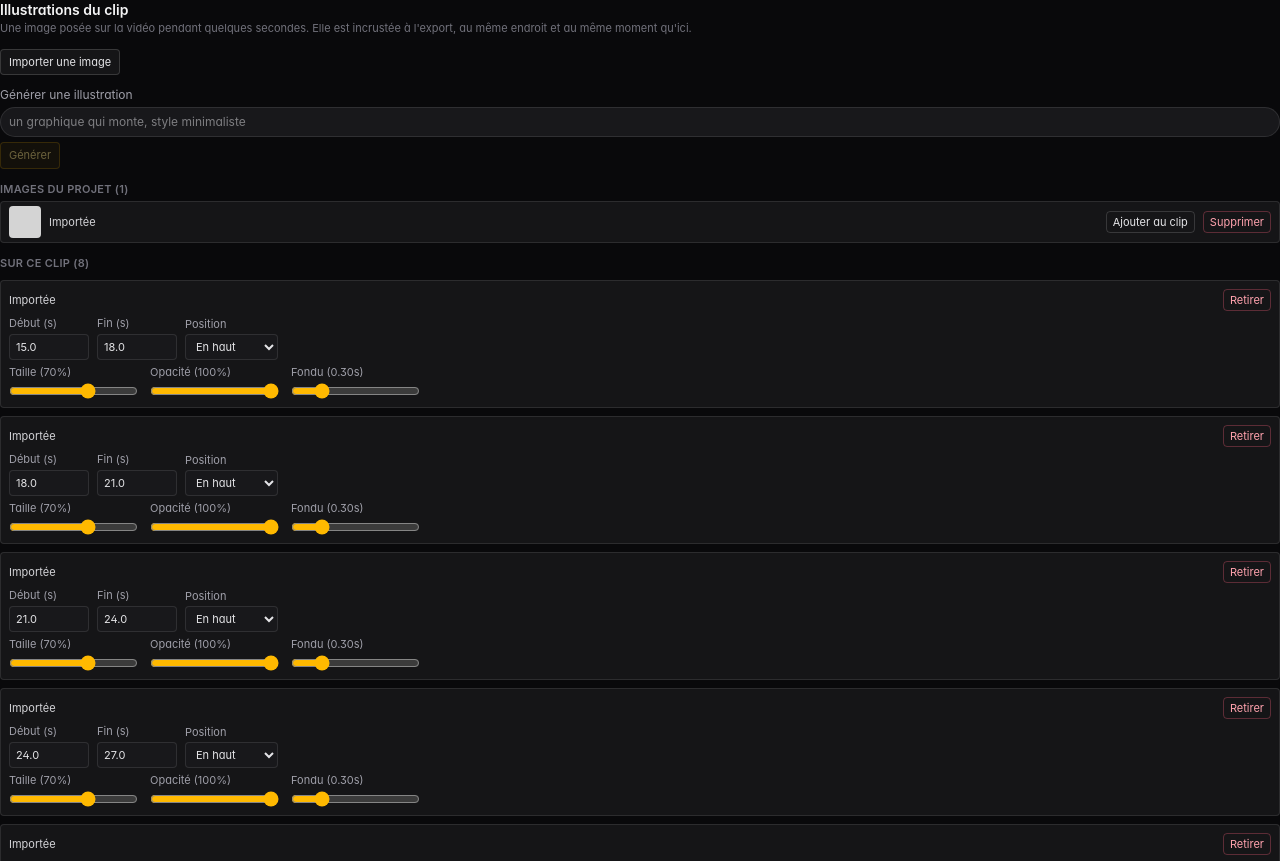
Test: IllustrationsPanel › refuses to go past the illustration cap, and says why
Click the button "Ajouter au clip" at point(1150, 222), box [1106, 211, 1195, 233]
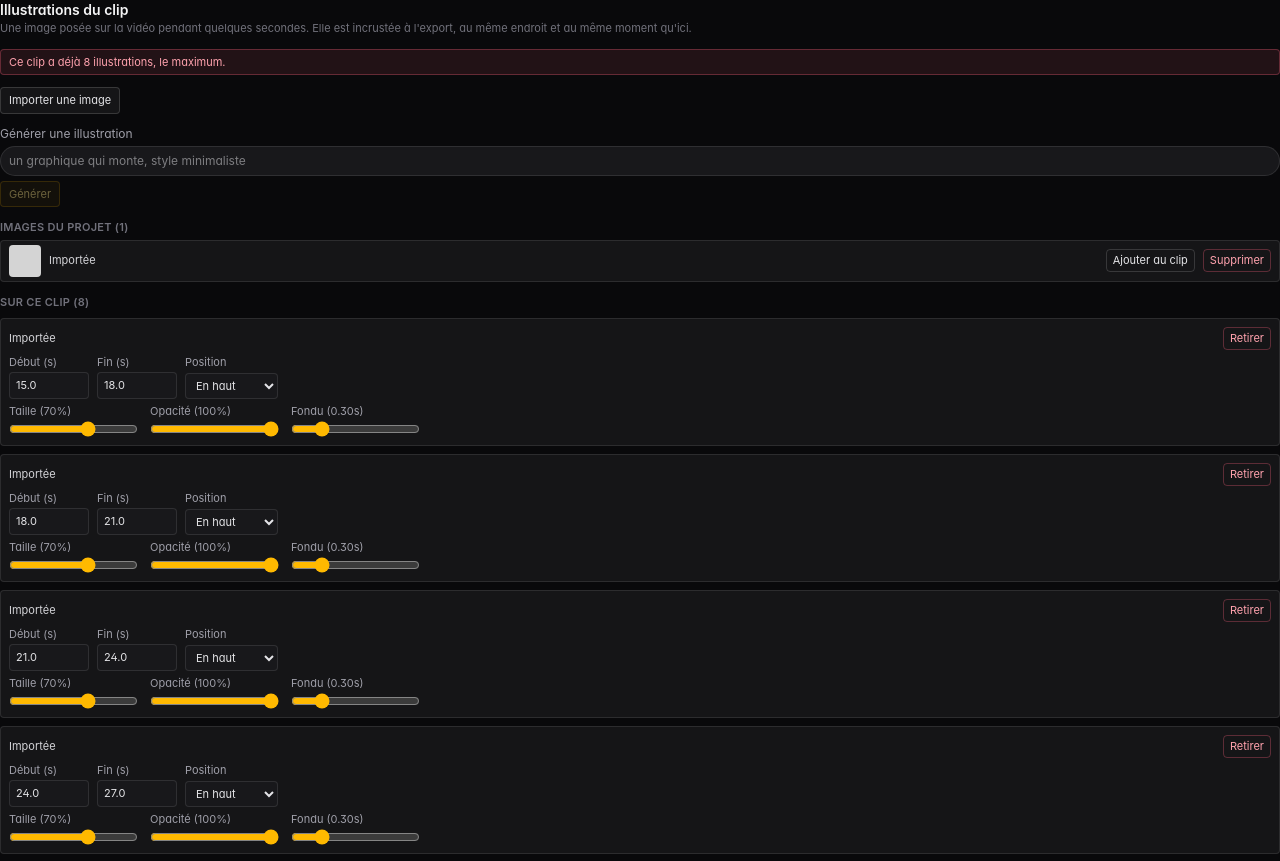
Check: the message shows "8", box [9, 54, 226, 68]
